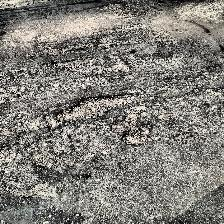pothole: (54, 94, 132, 122), (120, 123, 152, 145)
